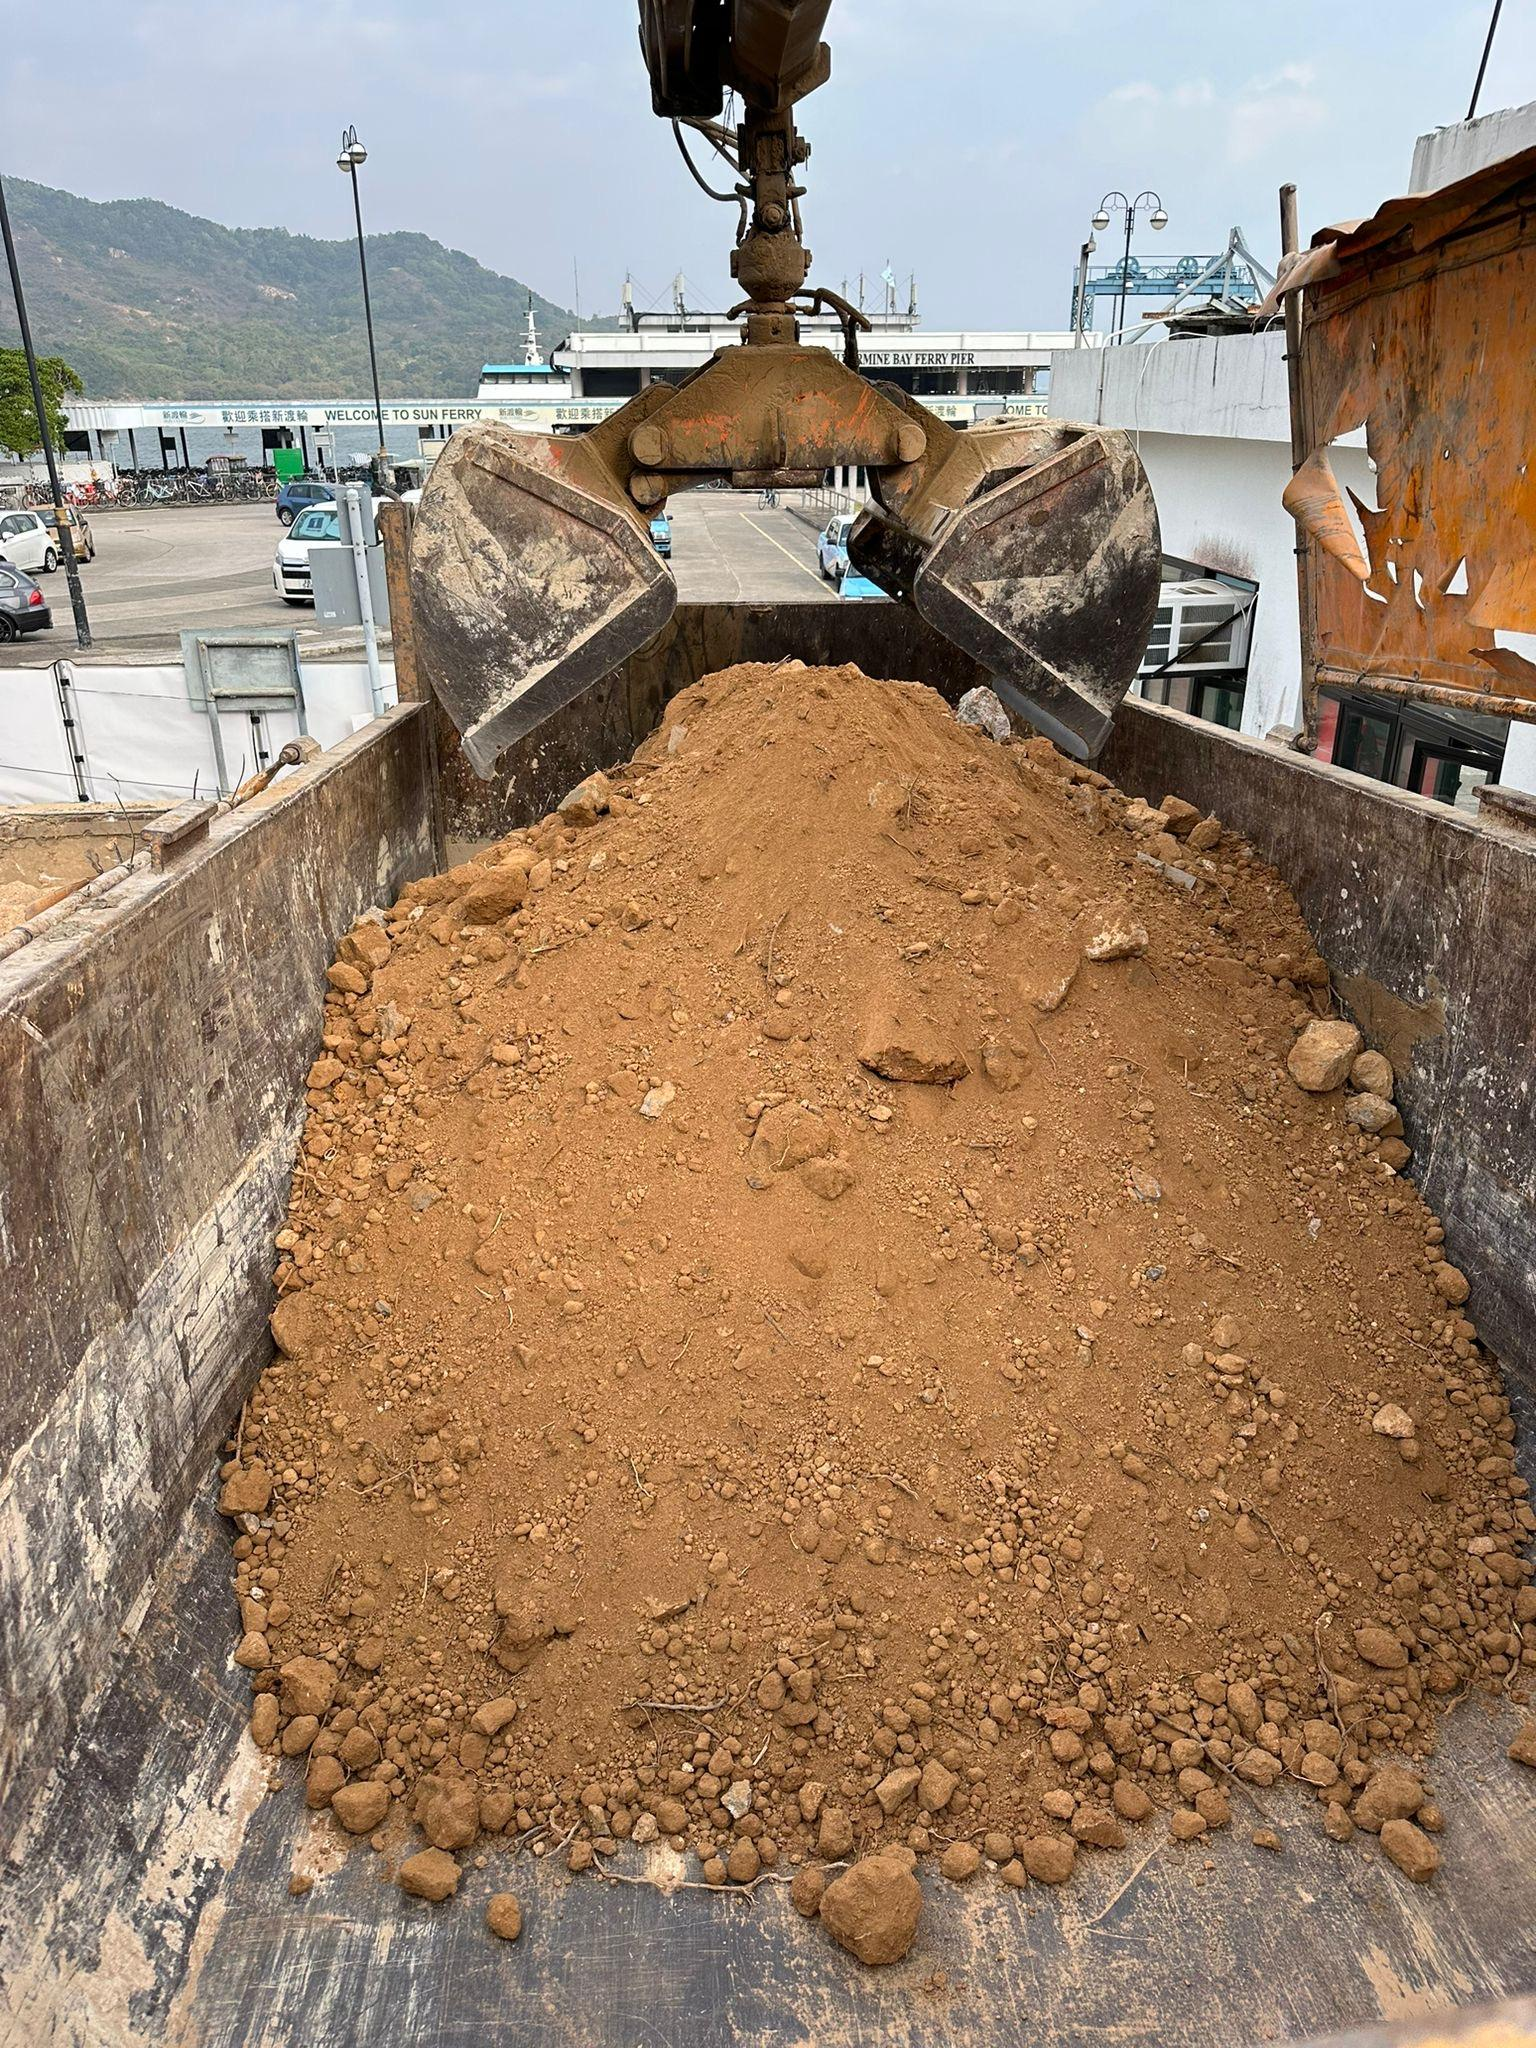dry: (247, 667, 1527, 1843)
